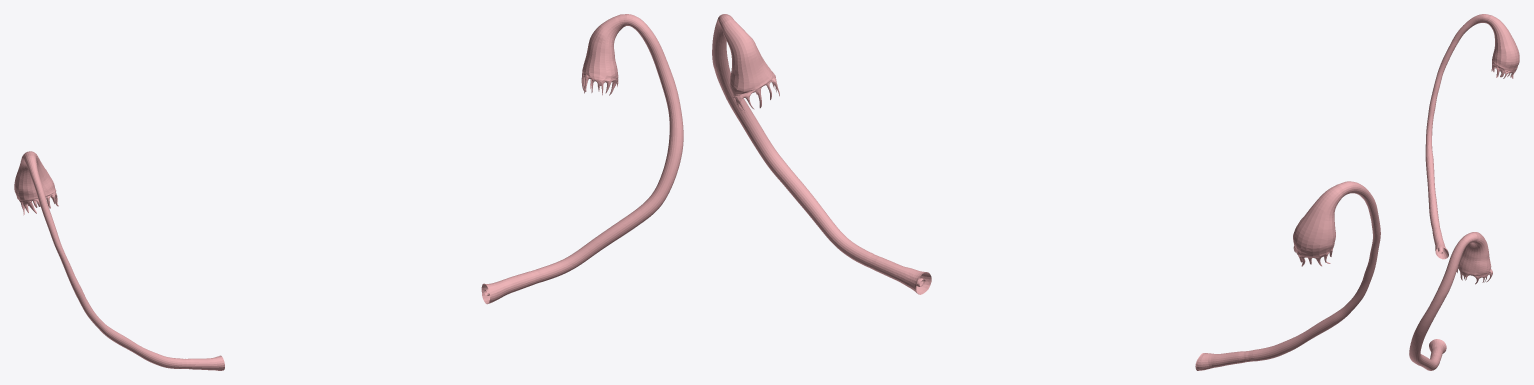
The model's file is fallopian-tubes.glb.
3 renders of one model, left to right at view 1: azimuth 30°, elevation 25°; view 2: azimuth 150°, elevation 25°; view 3: azimuth 270°, elevation 25°, orthographic. The views are drawn at different scales.
Visible parts, largest first — view 1: fallopian-tubes; view 2: fallopian-tubes; view 3: fallopian-tubes.
Part boxes in pixels (x1,y1,x2,y2): fallopian-tubes: (14,14,683,370); fallopian-tubes: (712,14,1380,370); fallopian-tubes: (1409,14,1519,370).
Size of the model in its own units: 0.1244 by 0.0455 by 0.0245.
